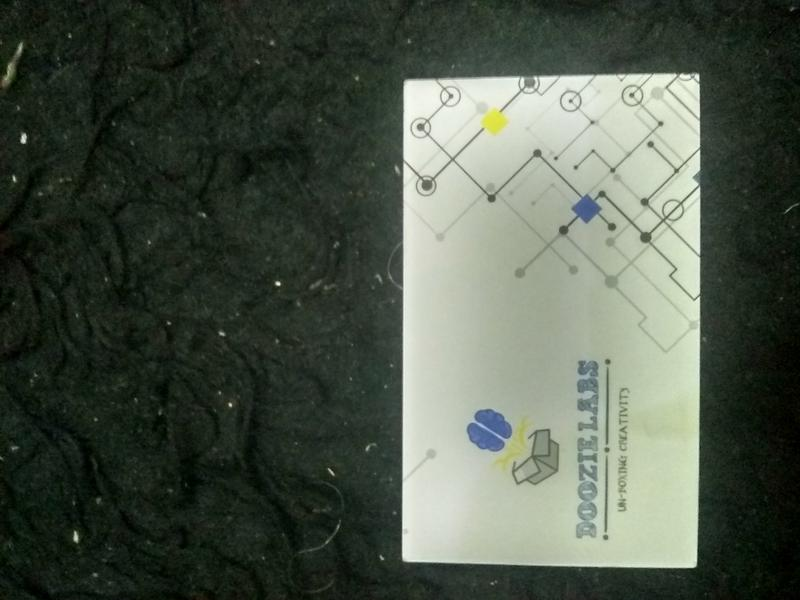back: (403, 76, 702, 573)
